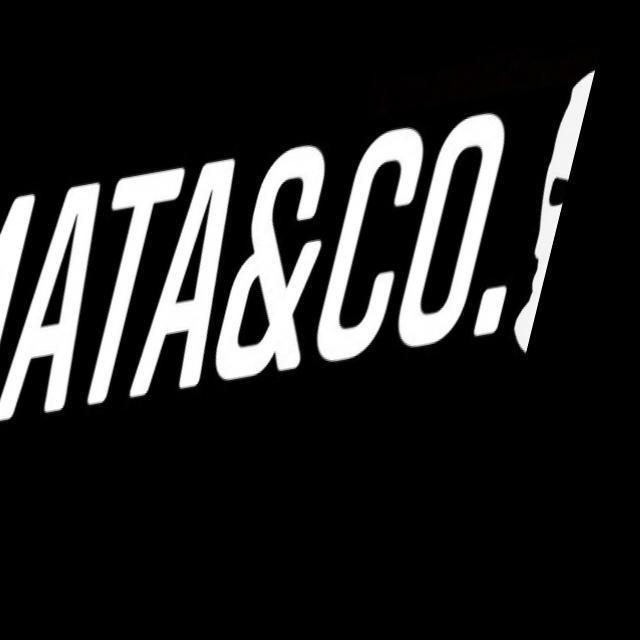nonspitting: (0, 66, 598, 422)
